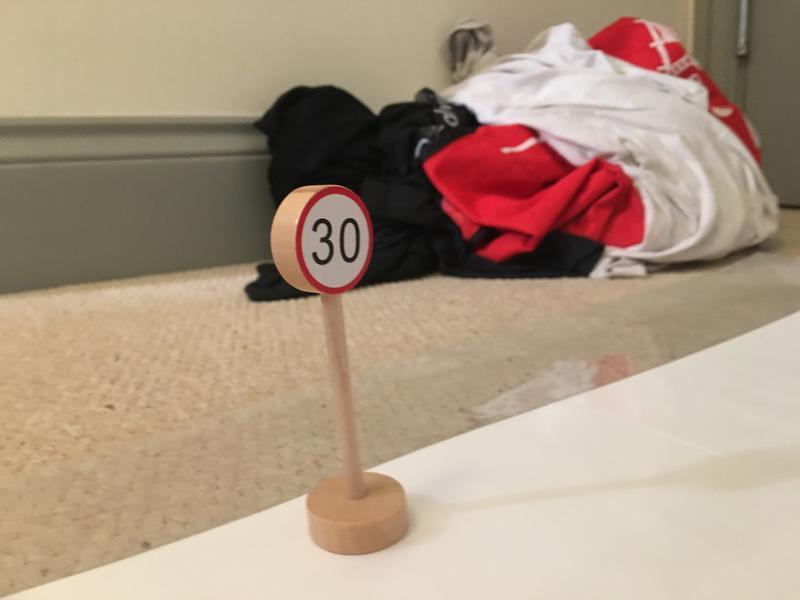Traffic_Sign_30: (296, 189, 372, 295)
